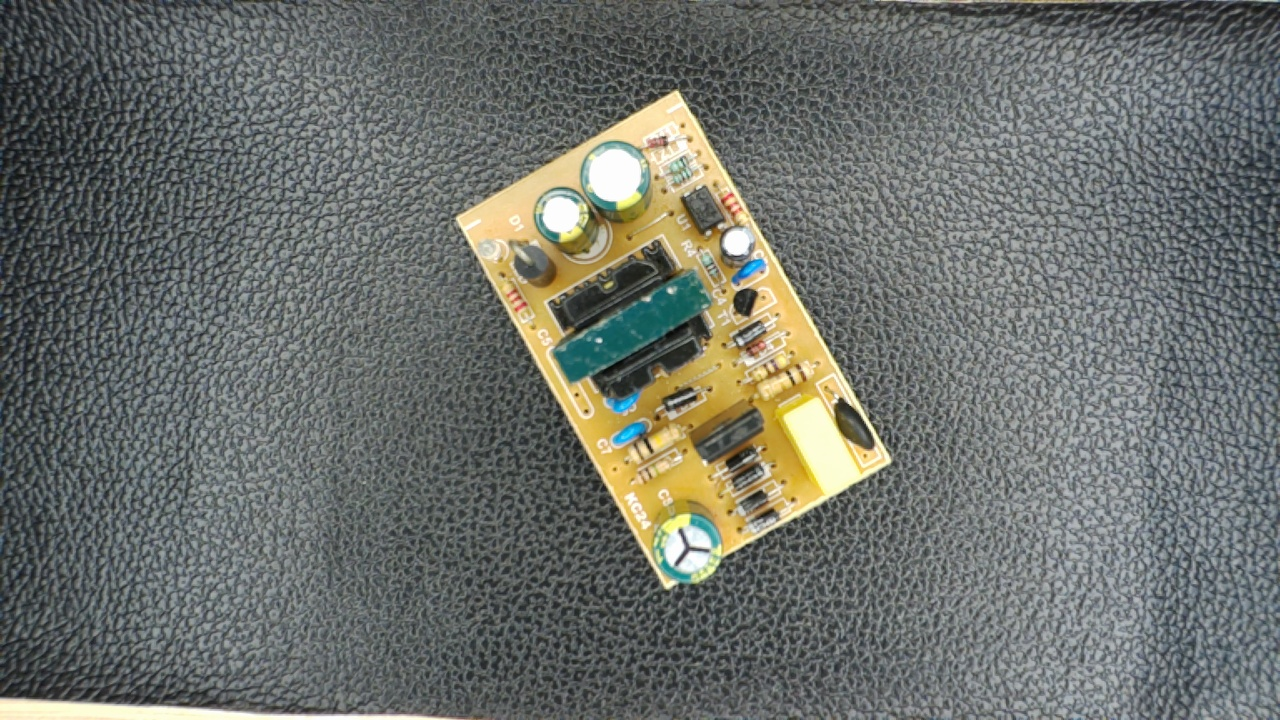fuse: (827, 384, 881, 459)
hv_capacitor: (650, 500, 725, 585)
optocoupler: (677, 180, 729, 240)
